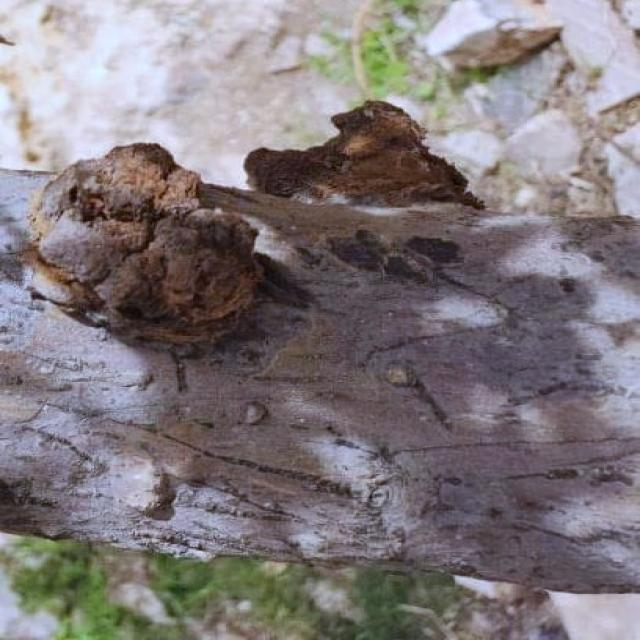Tuberculosis: (24, 144, 264, 356), (245, 101, 483, 211)
